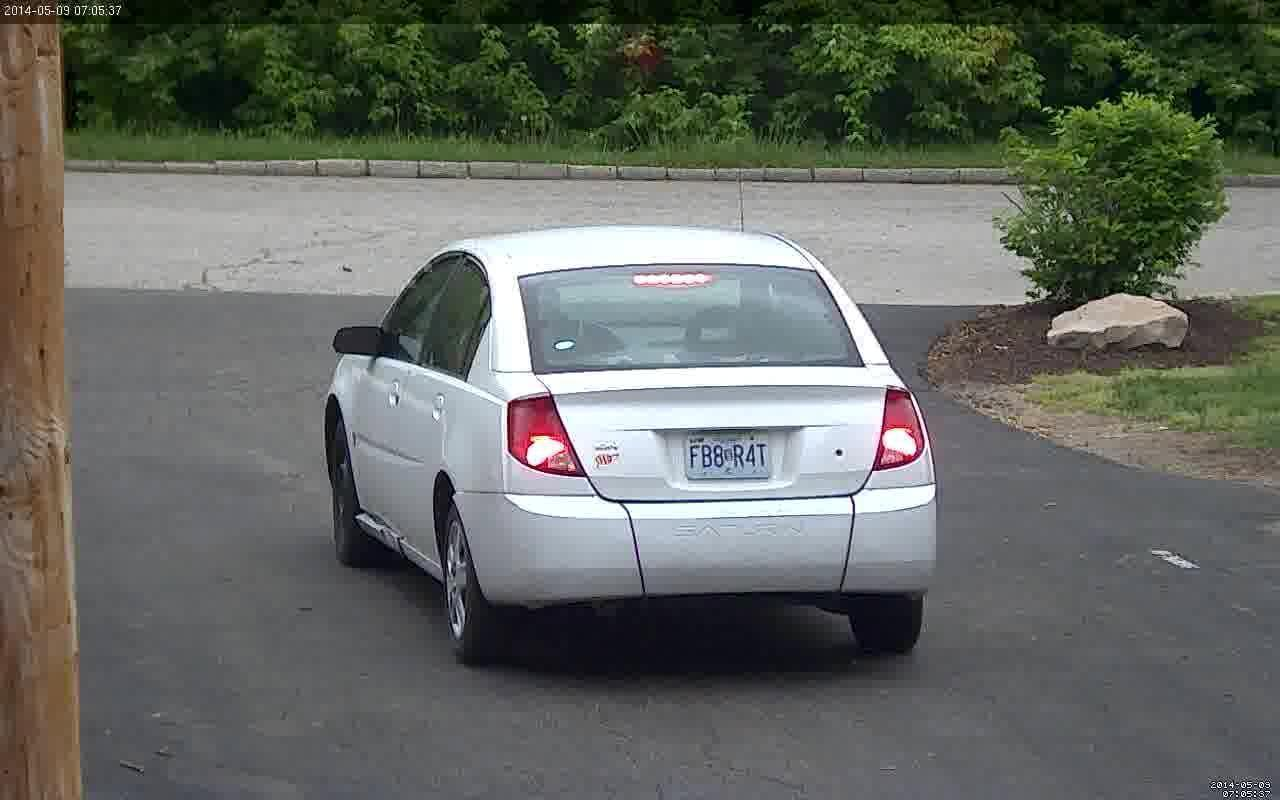placa de veiculo: (669, 413, 798, 500)
